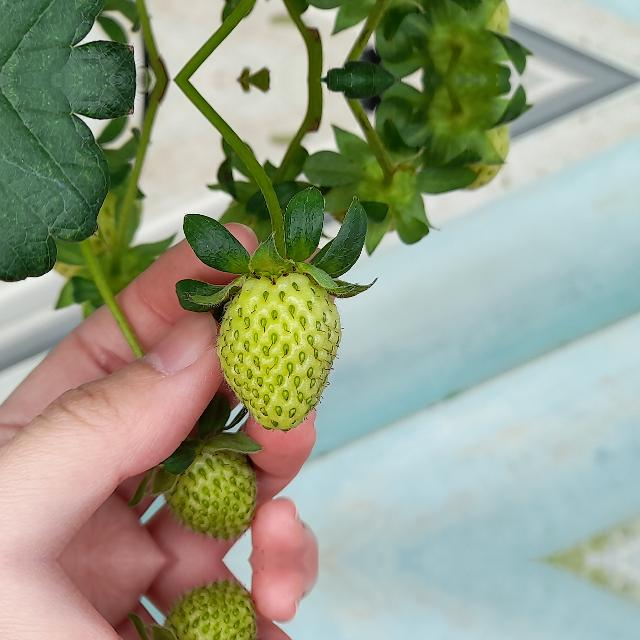Health_25: (216, 272, 342, 431), (157, 416, 255, 538), (157, 582, 255, 640)
